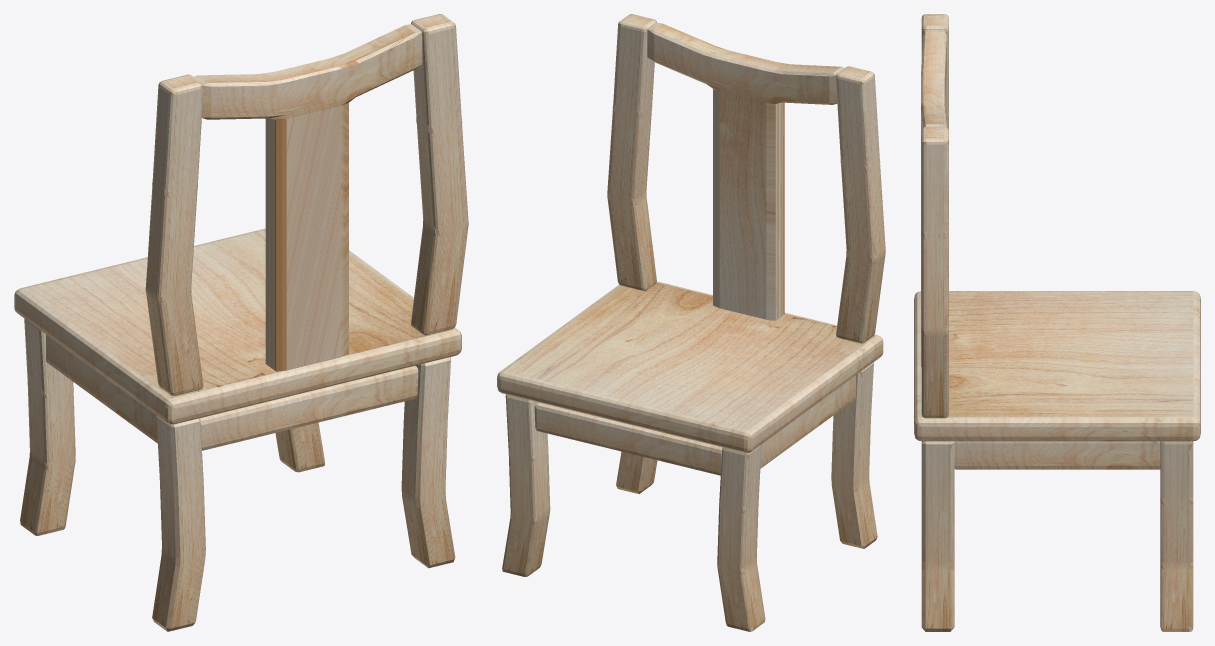
Rendered from chair.fbx.
The picture shows the model from 3 angles, left to right: view 1: azimuth 30°, elevation 25°; view 2: azimuth 150°, elevation 25°; view 3: azimuth 270°, elevation 25°; orthographic projection. The views are drawn at different scales.
Visible parts, largest first — view 1: Box001, Box008, Box007, Box006, Box003, Box002, Box004, Box012, Box010, Box005; view 2: Box001, Box008, Box007, Box006, Box004, Box005, Box003, Box011, Box010, Box002; view 3: Box001, Box006, Box005, Box002, Box009, Box008, Box007.
Part boxes in pixels (x1,y1,x2,y2): Box001: (14,228,461,424); Box008: (193,24,422,371); Box007: (145,74,203,395); Box006: (411,14,468,335); Box003: (152,415,205,631); Box002: (401,357,455,568); Box004: (20,318,75,535); Box012: (199,365,418,450); Box010: (46,334,157,443); Box005: (275,422,324,472); Box001: (497,281,883,452); Box008: (647,22,844,320); Box007: (836,66,885,343); Box006: (607,14,656,291); Box004: (717,444,765,631); Box005: (502,394,550,576); Box003: (831,362,877,548); Box011: (534,402,722,475); Box010: (760,375,855,468); Box002: (616,451,657,493); Box001: (914,291,1200,441); Box006: (921,126,948,418); Box005: (1160,441,1193,631); Box002: (921,441,954,631); Box009: (954,441,1160,469); Box008: (921,30,946,367); Box007: (921,14,948,130).
Size of the model in its own units: 68.62 by 114 by 60.18.
1 material, 1 textured.
